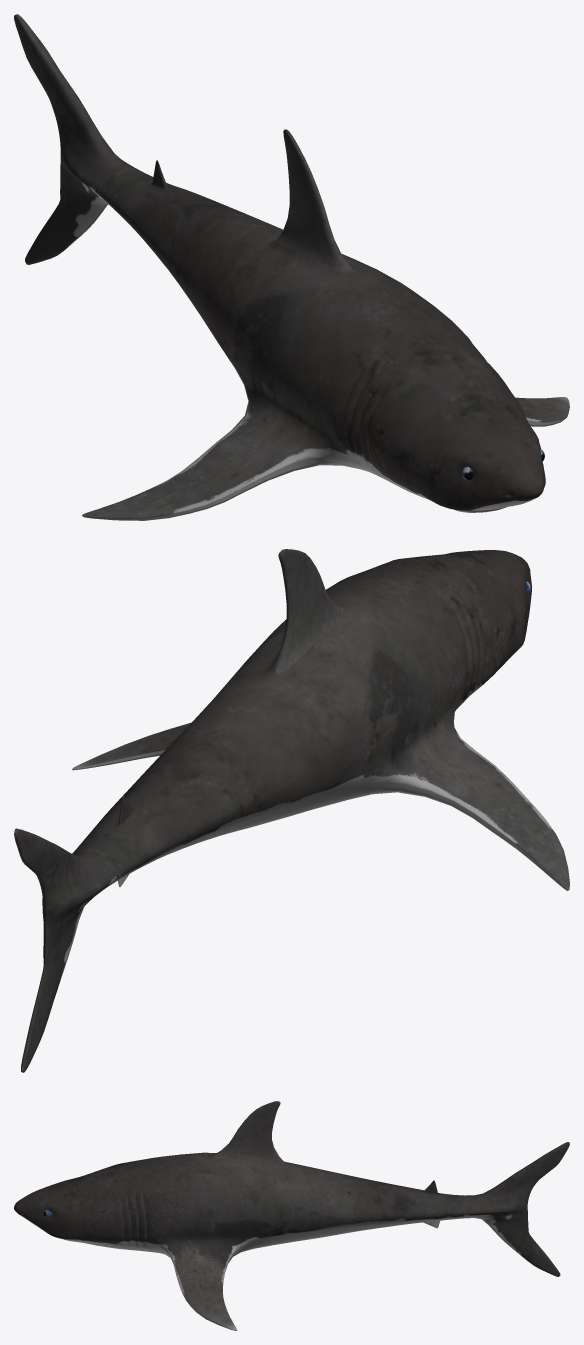
The picture shows the model from 3 angles, top to bottom: view 1: azimuth 30°, elevation 25°; view 2: azimuth 150°, elevation 25°; view 3: azimuth 270°, elevation 25°; orthographic projection. The views are drawn at different scales.
Parts seen in each view (by area): view 1: Shark; view 2: Shark; view 3: Shark.
Part boxes in pixels (x1,y1,x2,y2): Shark: (14, 14, 569, 520); Shark: (14, 549, 569, 1072); Shark: (14, 1101, 569, 1330).
Size of the model in its own units: 3.18 by 2.02 by 5.77.
1 material, 1 textured.
